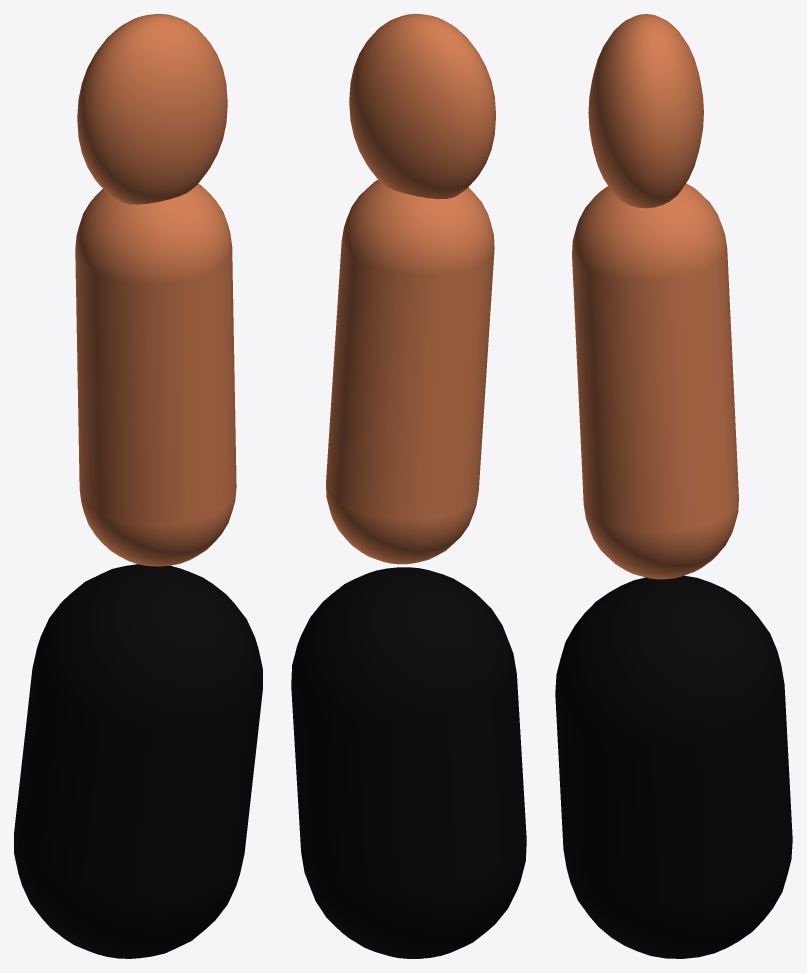
File: brazo.obj
3 renders of one model, left to right at view 1: azimuth 30°, elevation 25°; view 2: azimuth 150°, elevation 25°; view 3: azimuth 270°, elevation 25°, orthographic. The views are drawn at different scales.
Visible parts, largest first — view 1: manga, antebrazo, mano; view 2: manga, antebrazo, mano; view 3: manga, antebrazo, mano.
Boxes of the visible parts, left/top/right/bottom form: manga: left=14, top=564, right=262, bottom=958; antebrazo: left=75, top=184, right=236, bottom=566; mano: left=77, top=14, right=227, bottom=204; manga: left=291, top=567, right=526, bottom=958; antebrazo: left=326, top=180, right=494, bottom=564; mano: left=349, top=14, right=495, bottom=199; manga: left=555, top=575, right=792, bottom=958; antebrazo: left=572, top=183, right=738, bottom=579; mano: left=588, top=14, right=703, bottom=208.
Bounding box in the file's own units: 0.1323 × 0.5552 × 0.1283.
